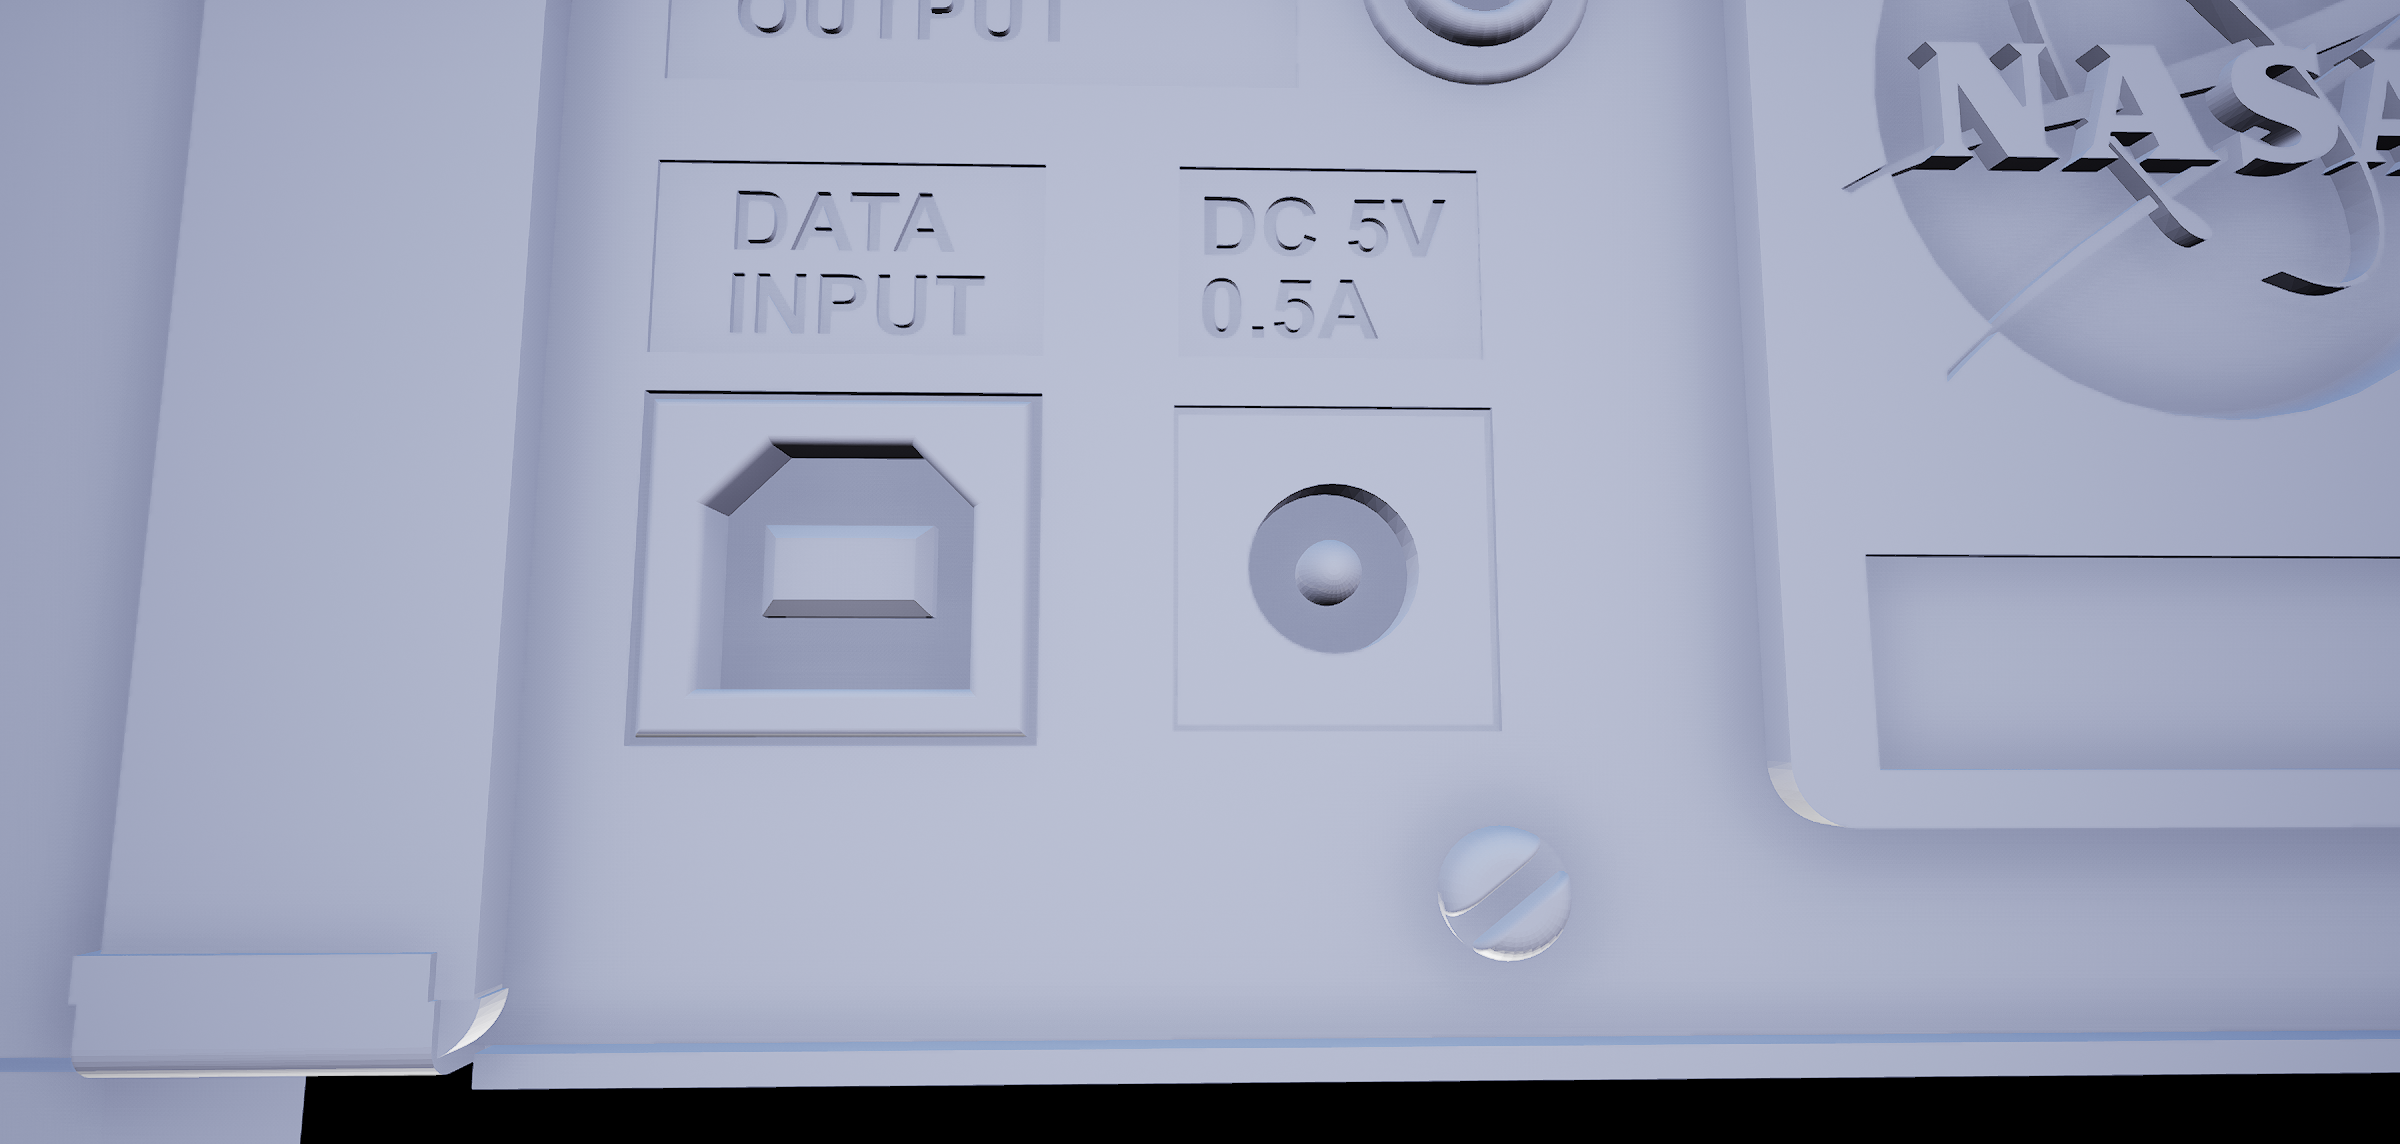aux: (1348, 2, 1592, 110)
dc: (1244, 464, 1439, 672)
usb: (687, 435, 981, 701)
